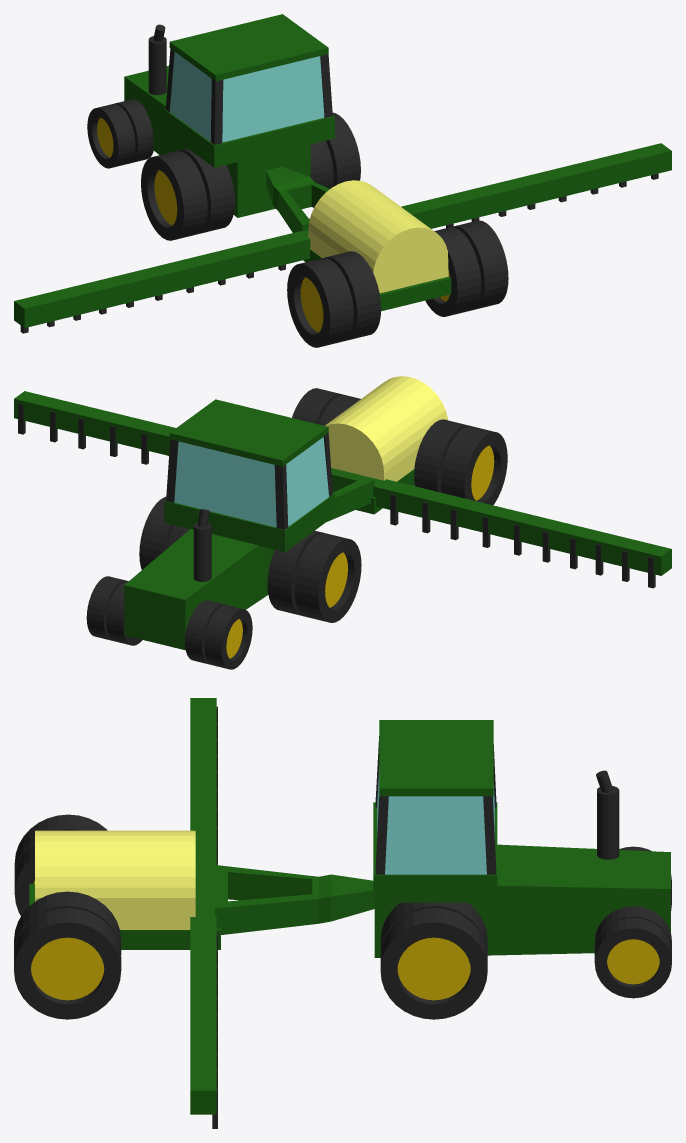
The model's file is fertilizer.gltf.
The picture shows the model from 3 angles, top to bottom: view 1: azimuth 30°, elevation 25°; view 2: azimuth 150°, elevation 25°; view 3: azimuth 270°, elevation 25°; orthographic projection. The views are drawn at different scales.
Visible parts, largest first — view 1: Cube.001, Cylinder, Cube.025, Cube.026, Cube.024, Tire.007, Tire.003, Cube.023, Tire.001, Tire.011, Tire, Tire.002 (+9 smaller); view 2: Cube.001, Cube.024, Cube.025, Cylinder, Cube.026, Tire.007, Tire.003, Cube.023, Tire.011, Tire.002, Tire.006, Cube.022 (+9 smaller); view 3: Cube.024, Cylinder, Cube.001, Tire, Tire.004, Cube.026, Cube.022, Cube.025, Tire.008, Cube.023, Tire.001, Cube (+7 smaller).
Part boxes in pixels (x1,y1,x2,y2): Cube.001: [14, 143, 671, 327]; Cylinder: [308, 180, 448, 293]; Cube.025: [169, 52, 324, 142]; Cube.026: [169, 14, 328, 81]; Cube.024: [124, 66, 310, 217]; Tire.007: [141, 150, 207, 240]; Tire.003: [287, 257, 353, 347]; Cube.023: [164, 109, 334, 167]; Tire.001: [425, 227, 481, 316]; Tire.011: [87, 103, 135, 168]; Tire: [452, 220, 508, 310]; Tire.002: [325, 251, 381, 340]; Cube.001: [14, 391, 671, 575]; Cube.024: [124, 529, 274, 649]; Cube.025: [174, 437, 328, 527]; Cylinder: [325, 376, 447, 481]; Cube.026: [169, 399, 328, 466]; Tire.007: [294, 533, 361, 622]; Tire.003: [441, 426, 507, 505]; Cube.023: [164, 493, 334, 552]; Tire.011: [204, 605, 252, 669]; Tire.002: [414, 419, 469, 492]; Tire.006: [267, 530, 323, 616]; Cube.022: [327, 469, 374, 521]; Cube.024: [374, 844, 670, 957]; Cylinder: [35, 830, 195, 929]; Cube.001: [190, 698, 216, 1114]; Tire: [14, 908, 121, 1019]; Tire.004: [380, 908, 487, 1019]; Cube.026: [379, 720, 493, 796]; Cube.022: [214, 865, 374, 934]; Cube.025: [377, 767, 494, 874]; Tire.008: [594, 918, 671, 998]; Cube.023: [373, 802, 497, 902]; Tire.001: [14, 891, 121, 954]; Cube: [29, 884, 220, 949].
Size of the model in its own units: 22.02 by 5.52 by 15.6.
